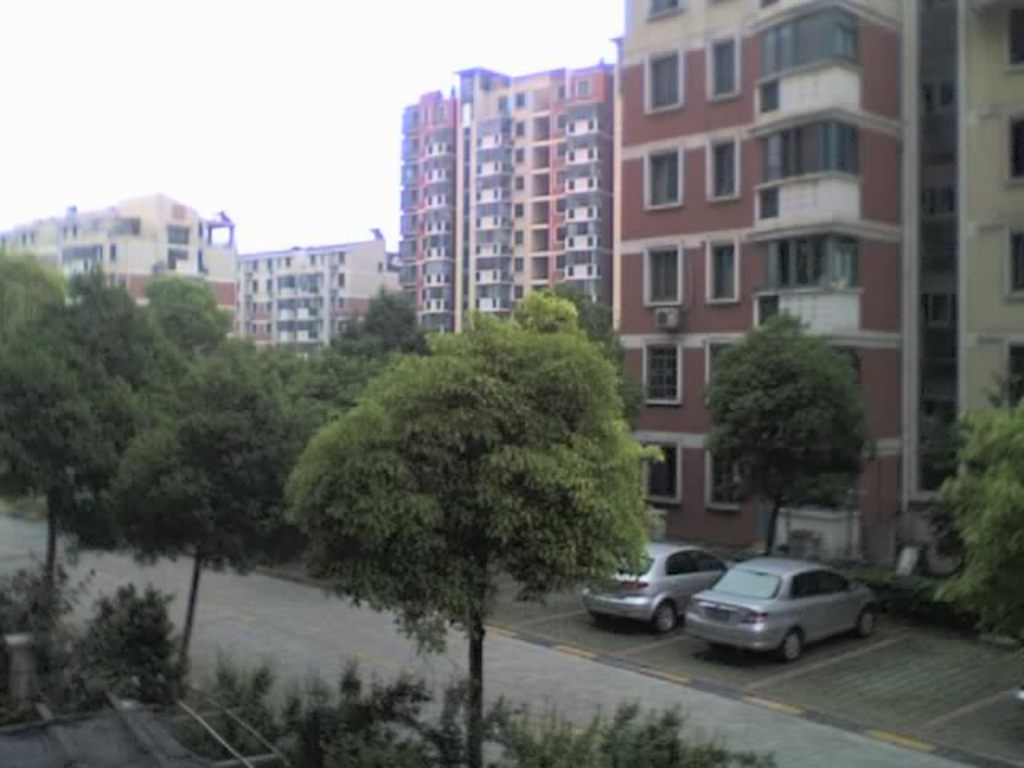Car: (679, 556, 873, 638), (582, 537, 729, 635)
